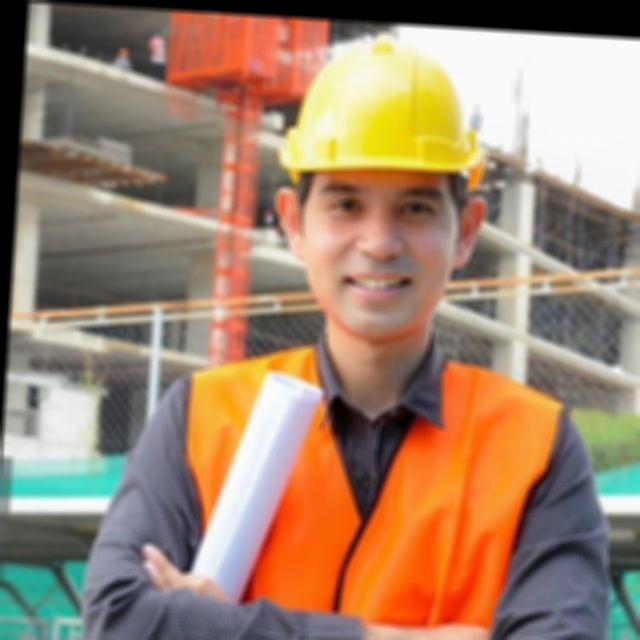Con_Casco: (266, 27, 500, 347)
Con_Chaleco: (154, 334, 570, 640)
